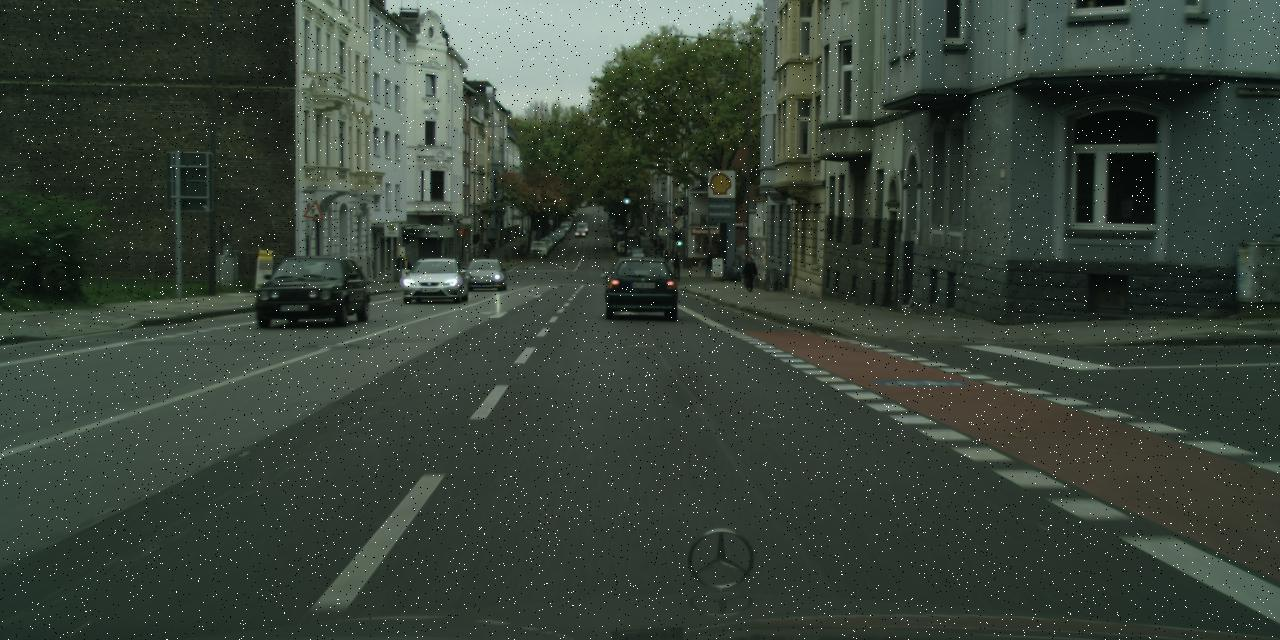ped: (742, 256, 756, 291), (670, 252, 681, 280), (703, 250, 713, 278), (482, 238, 490, 258), (404, 256, 411, 276), (662, 246, 669, 262), (658, 239, 664, 256)
